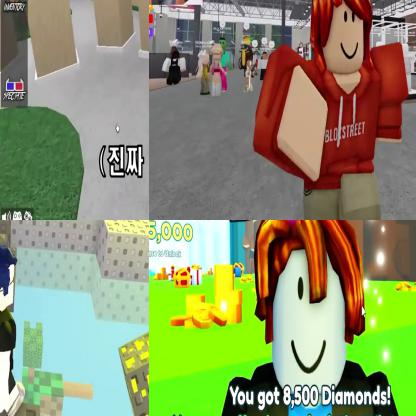Roblox-Avatar: (199, 221, 416, 416), (254, 1, 412, 220), (1, 246, 27, 416), (164, 51, 188, 86), (197, 50, 211, 96)
